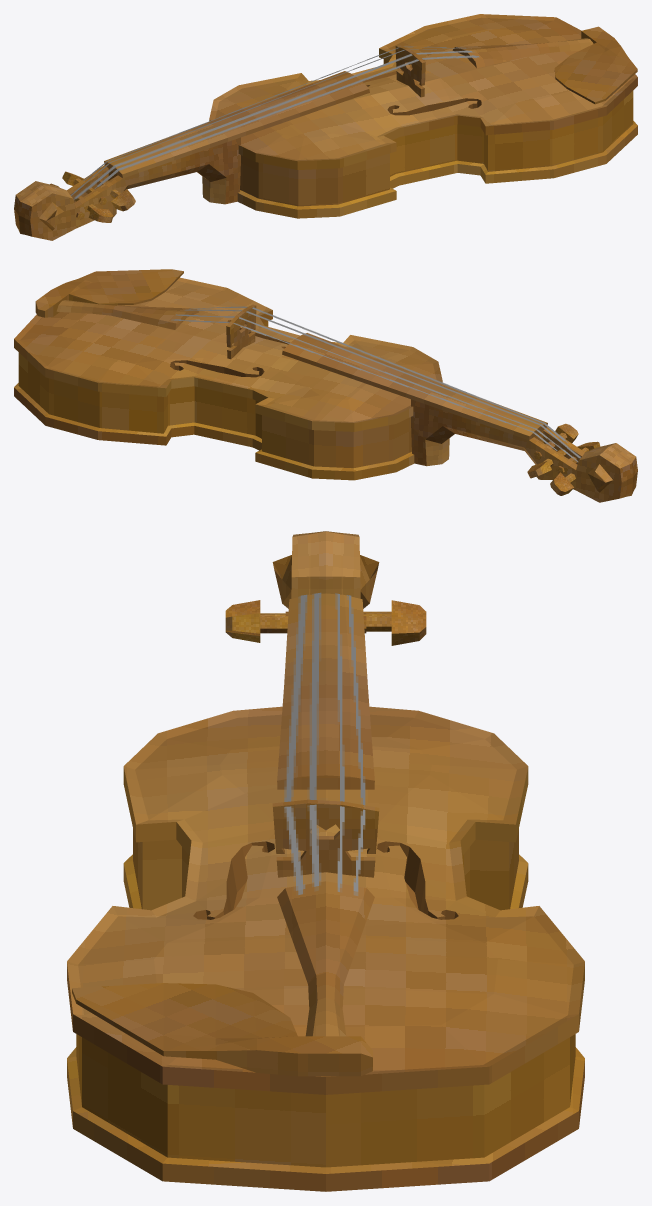
Rendered from violin.glb.
The picture shows the model from 3 angles, top to bottom: view 1: azimuth 30°, elevation 25°; view 2: azimuth 150°, elevation 25°; view 3: azimuth 270°, elevation 25°; orthographic projection. The views are drawn at different scales.
Visible parts, largest first — view 1: corpo, braco_e_espelho, braco_e_espelho.001, queixeira, cordas, estandarte, cavalete, aberturas, cravelha, cravelha.001; view 2: corpo, braco_e_espelho, braco_e_espelho.001, queixeira, cordas, estandarte, cavalete, aberturas, cravelha.002, cravelha; view 3: corpo, queixeira, braco_e_espelho.001, estandarte, cordas, cavalete, braco_e_espelho, aberturas, cravelha.003, cravelha.
Boxes of the visible parts, x1,y1,x2,y2 form: corpo: (209, 14, 637, 218); braco_e_espelho: (14, 137, 240, 240); braco_e_espelho.001: (104, 71, 369, 178); queixeira: (554, 26, 637, 104); cordas: (71, 46, 479, 199); estandarte: (452, 38, 593, 68); cavalete: (395, 45, 425, 97); aberturas: (362, 60, 481, 115); cravelha: (96, 179, 135, 211); cravelha.001: (74, 195, 113, 222); corpo: (14, 277, 442, 480); braco_e_espelho: (411, 399, 637, 502); braco_e_espelho.001: (282, 333, 547, 439); queixeira: (35, 269, 183, 317); cordas: (171, 306, 580, 462); estandarte: (56, 300, 198, 329); cavalete: (226, 304, 256, 359); aberturas: (170, 320, 289, 377); cravelha.002: (550, 472, 575, 495); cravelha: (533, 423, 578, 459); corpo: (67, 706, 584, 1191); queixeira: (72, 983, 372, 1076); braco_e_espelho.001: (277, 593, 374, 789); estandarte: (277, 881, 374, 1036); cordas: (284, 592, 365, 895); cavalete: (272, 799, 379, 877); braco_e_espelho: (272, 531, 379, 608); aberturas: (193, 841, 458, 919); cravelha.003: (285, 600, 426, 645); cravelha: (225, 613, 366, 635).
Size of the model in its own units: 7.87 by 1.36 by 3.
Materials: 4 (4 with a texture image).
